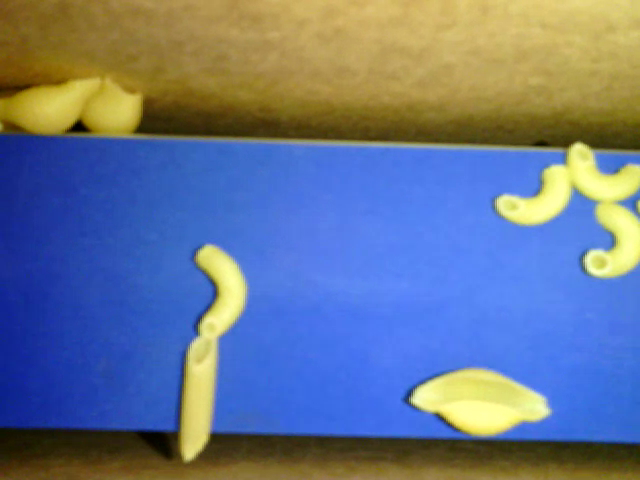elbow: (577, 194, 639, 283), (490, 164, 575, 227), (195, 242, 250, 335), (566, 136, 639, 203)
penne: (177, 331, 217, 463)
shell: (402, 366, 554, 438), (1, 71, 101, 134), (80, 75, 147, 137)
